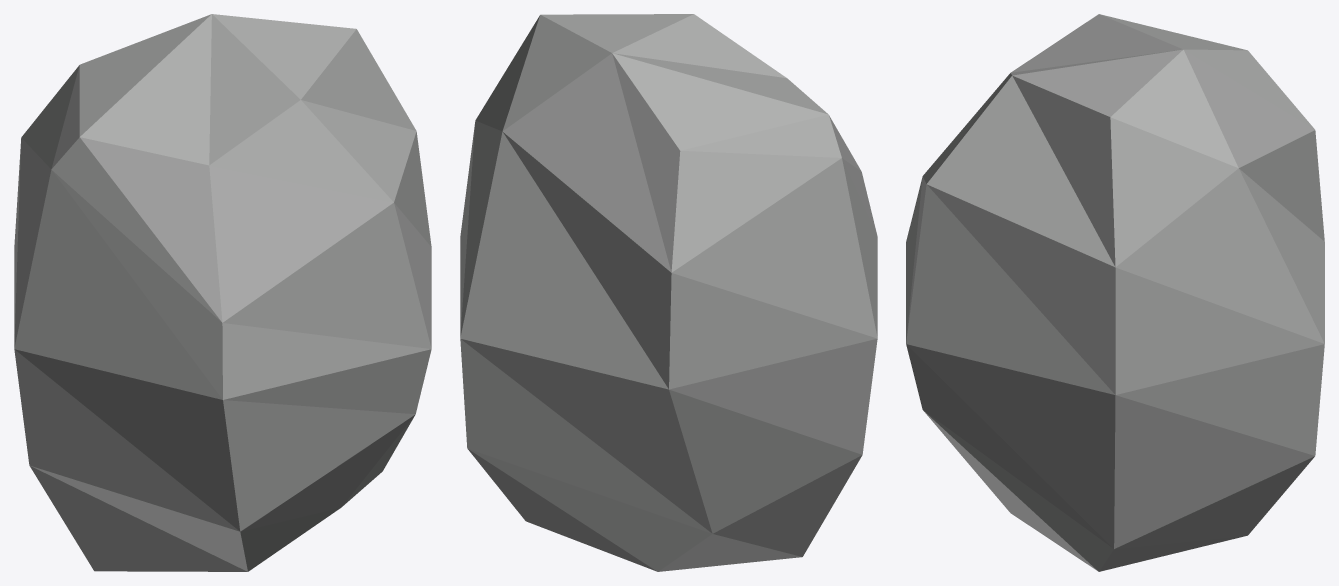
File: Rock_Mid_3.fbx
3 views of the same model, side by side, from view 1: azimuth 30°, elevation 25°; view 2: azimuth 150°, elevation 25°; view 3: azimuth 270°, elevation 25° (orthographic).
Visible parts, largest first — view 1: Rock_Mid_3; view 2: Rock_Mid_3; view 3: Rock_Mid_3.
Part boxes in pixels (box(x1,y1,x2,y2)): Rock_Mid_3: box(14, 14, 431, 571); Rock_Mid_3: box(460, 14, 877, 571); Rock_Mid_3: box(906, 14, 1324, 571).
Bounding box in the file's own units: 2 × 2.32 × 1.73.
